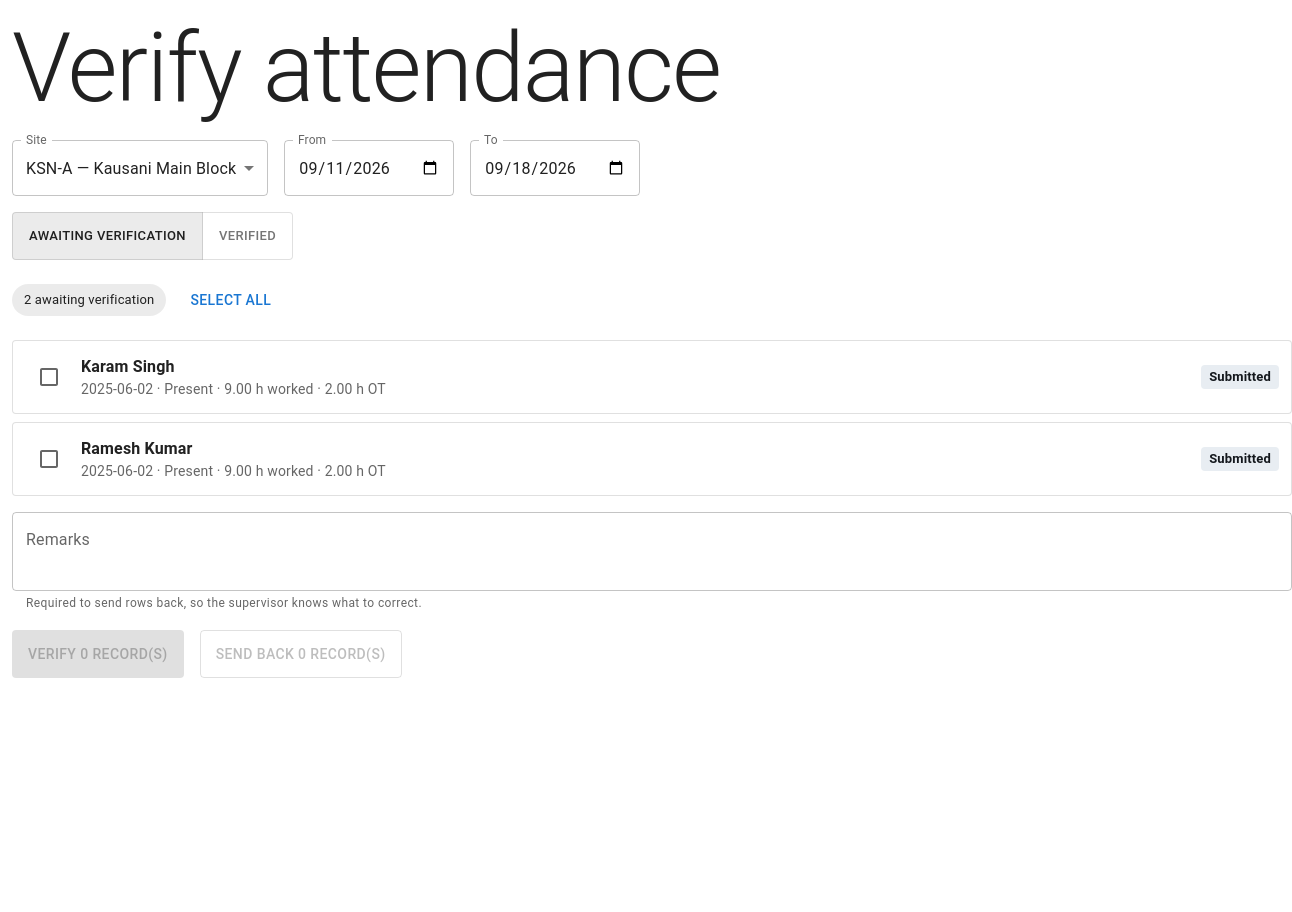
VerifyAttendancePage › verifies the selected rows and says what verification did
The image size is (1292, 912).
Check: the text "Karam Singh" is shown, box [81,357,175,376]
Click the button "Select all". click: (231, 300)
box: [182,276,279,324]
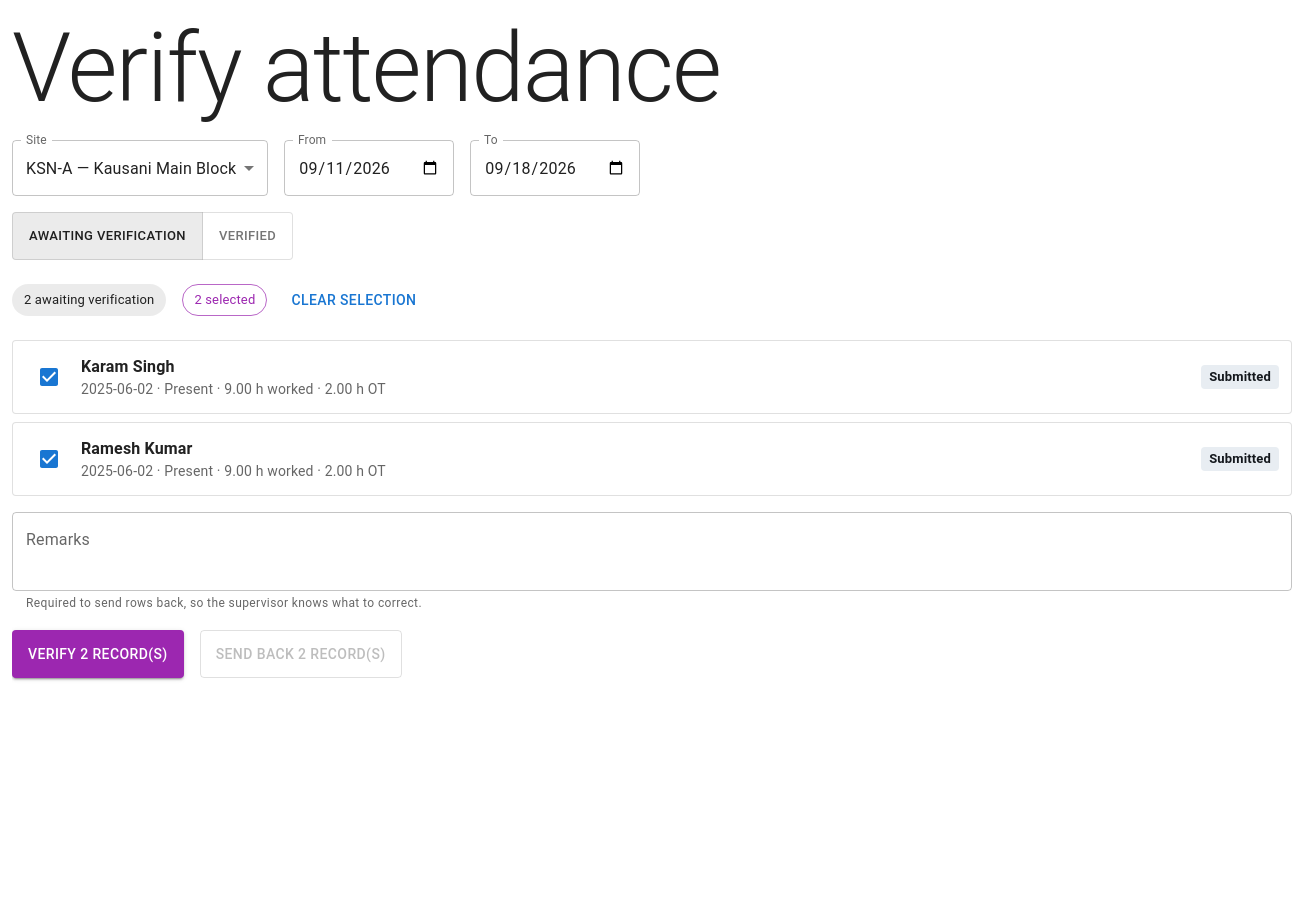
Click the button "Verify 2 record(s)". click: (98, 654)
box: [12,630,184,678]
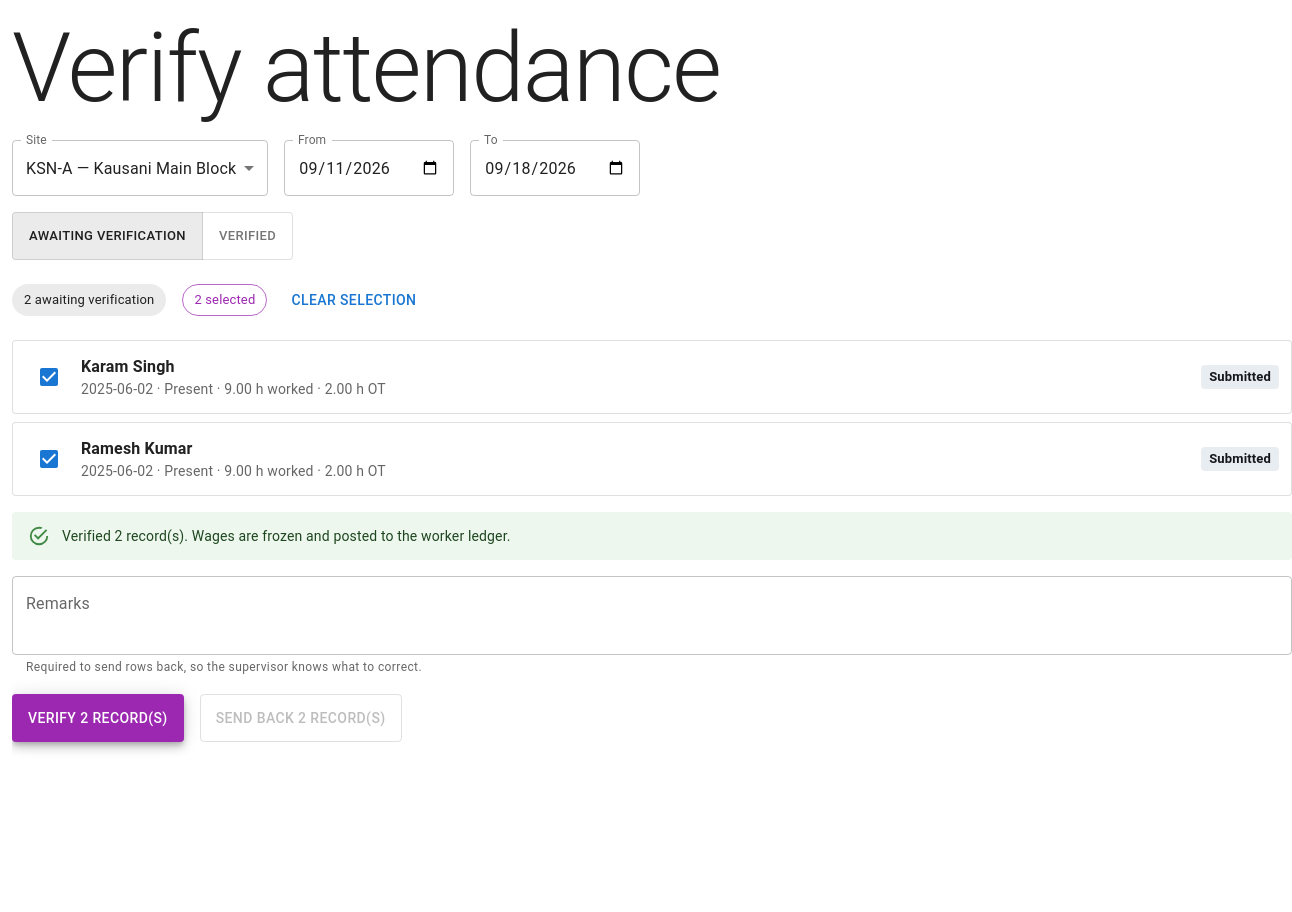
Check: the text "posted to the worker ledger" is shown, box [62,528,511,544]
